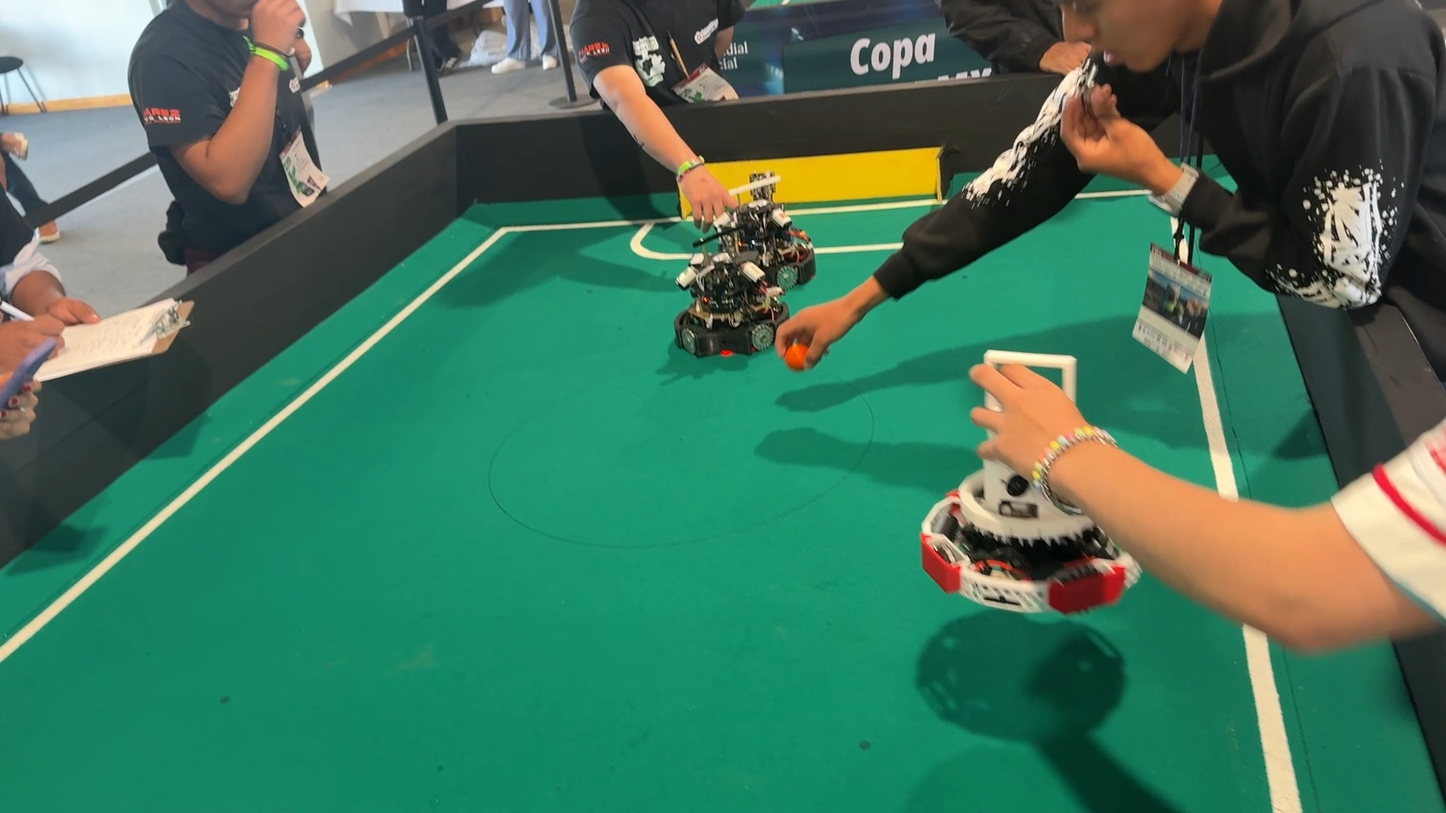Robot: (904, 329, 1158, 629), (655, 217, 806, 366), (713, 164, 828, 293)
pelota: (765, 332, 830, 383)
